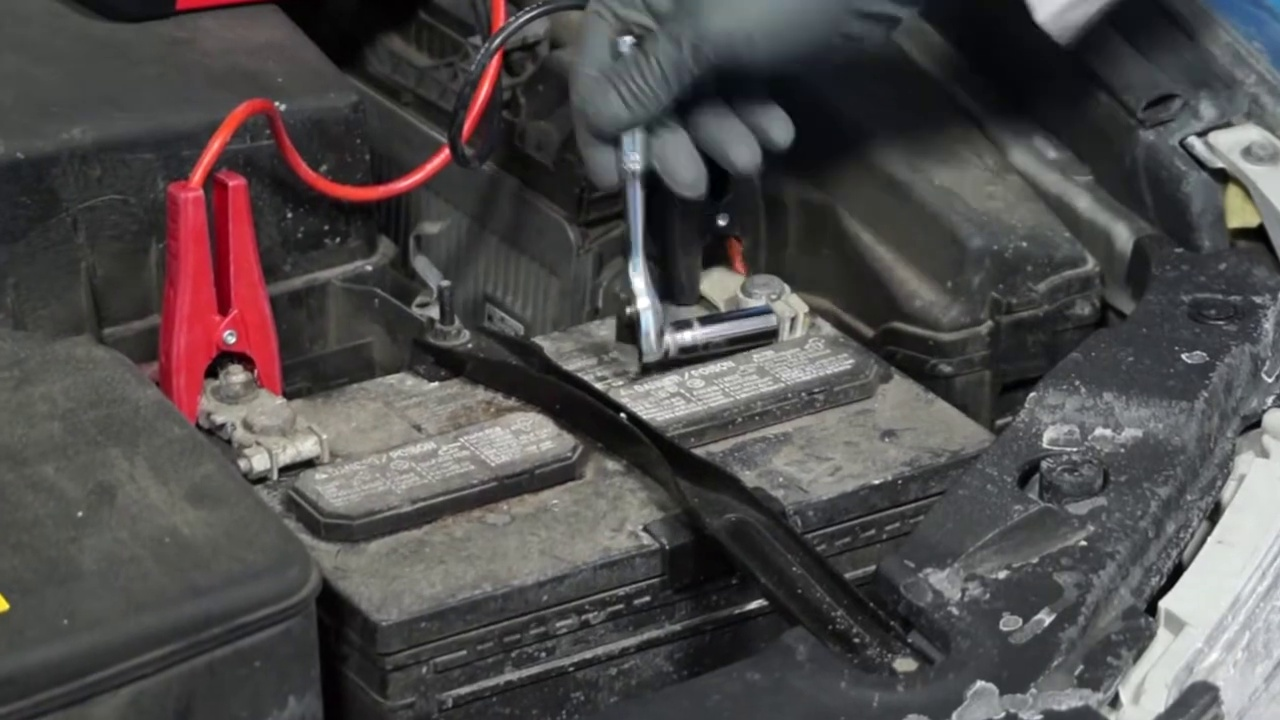battery: (168, 246, 1000, 629)
neg_touched: (557, 12, 826, 361)
pos_connected: (150, 258, 344, 483)
